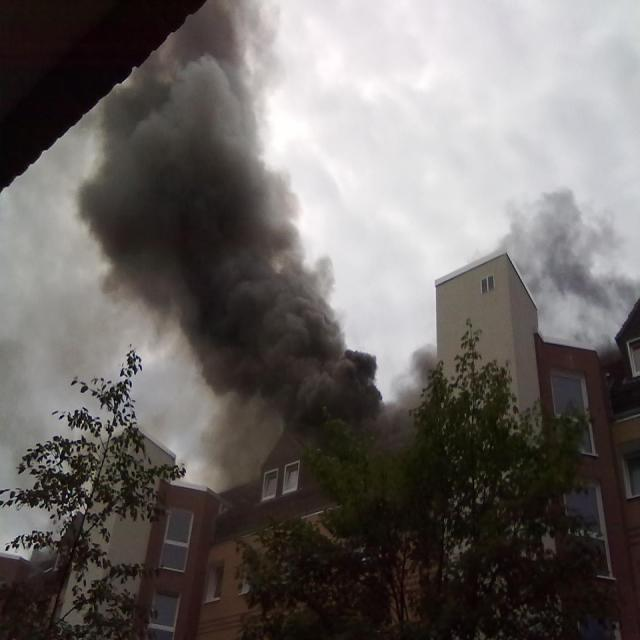Smoke: (73, 0, 390, 431)
